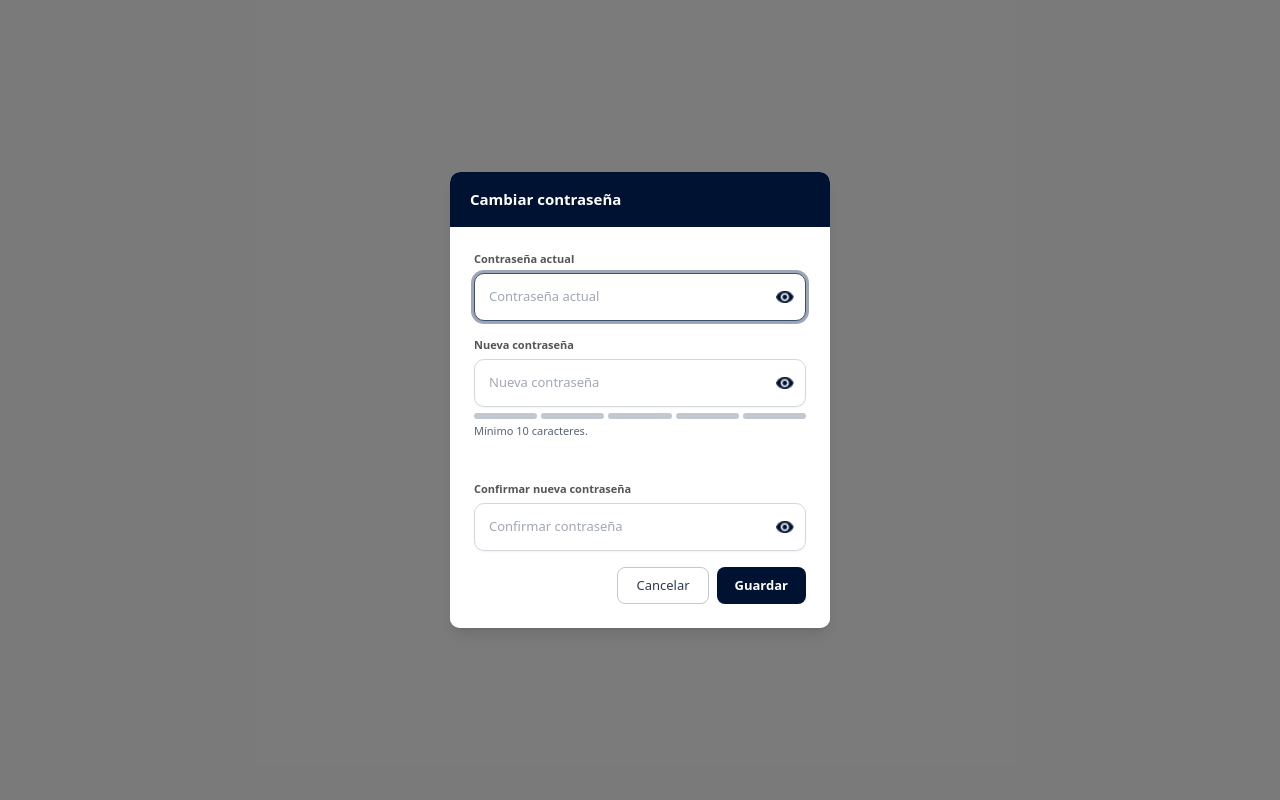
it: CambiarPasswordDialog: guardado › 422: el message del servidor en la línea, los campos se conservan y no hay diálogo genérico
Type "mala1234" into the password field labelled "Contraseña actual" at (640, 297), box x1=474 y1=273 x2=806 y2=320
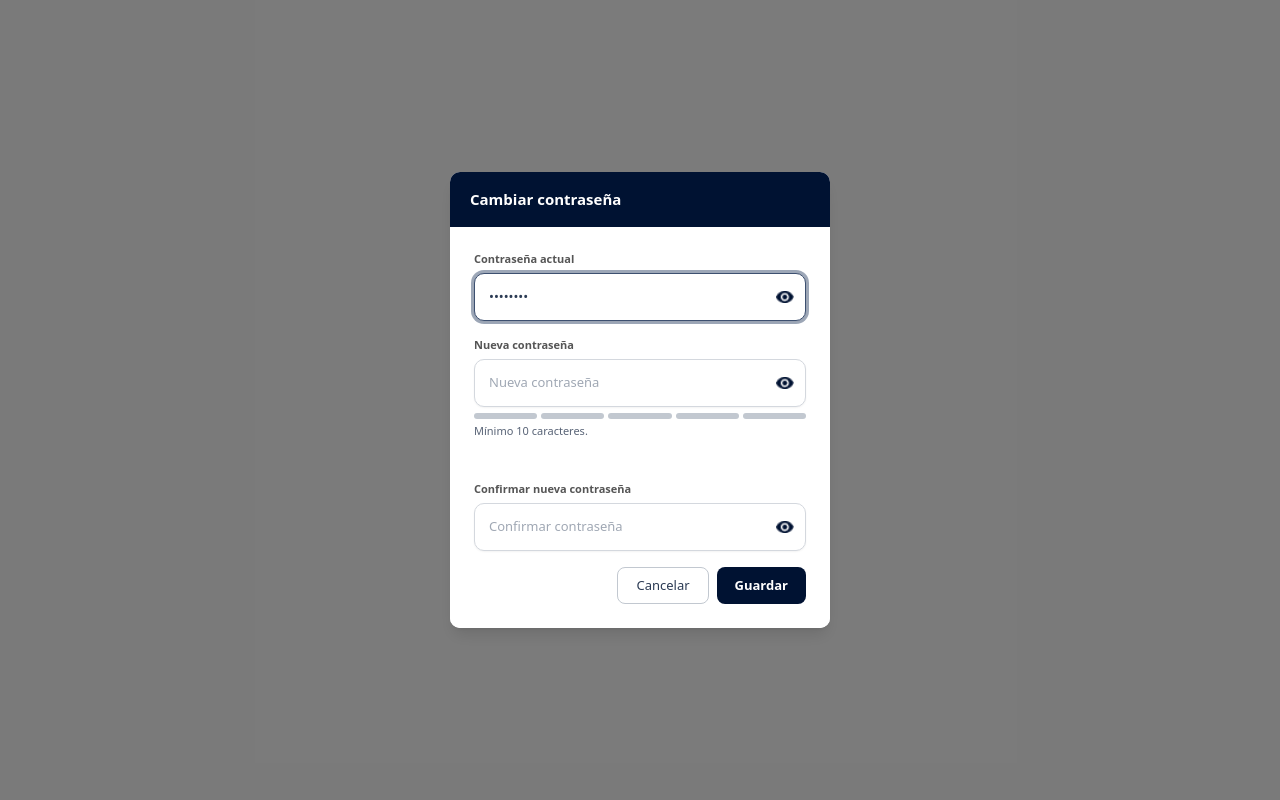
Type "nueva-larga-123" into the password field labelled "Nueva contraseña" at (640, 383), box x1=474 y1=359 x2=806 y2=406
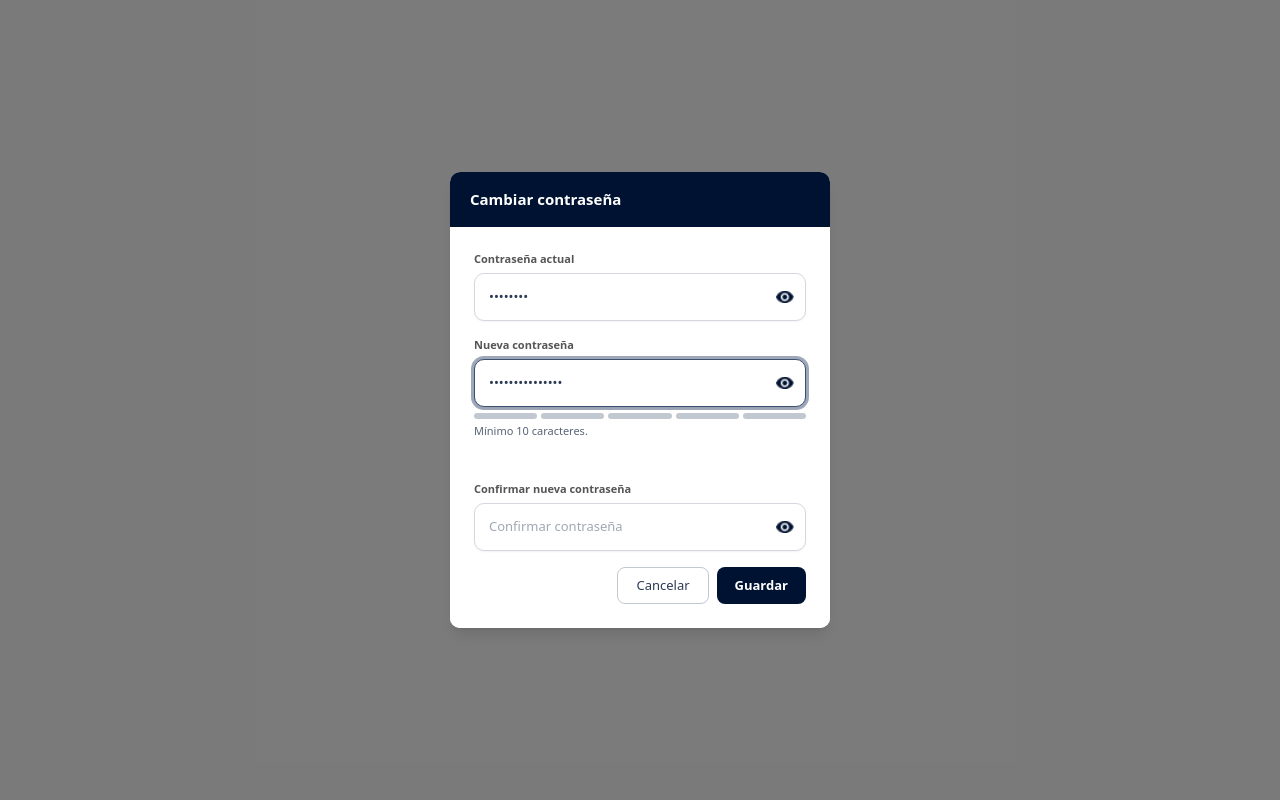
Type "nueva-larga-123" into the password field named "Confirmar nueva contraseña" at (640, 527), box x1=474 y1=503 x2=806 y2=550
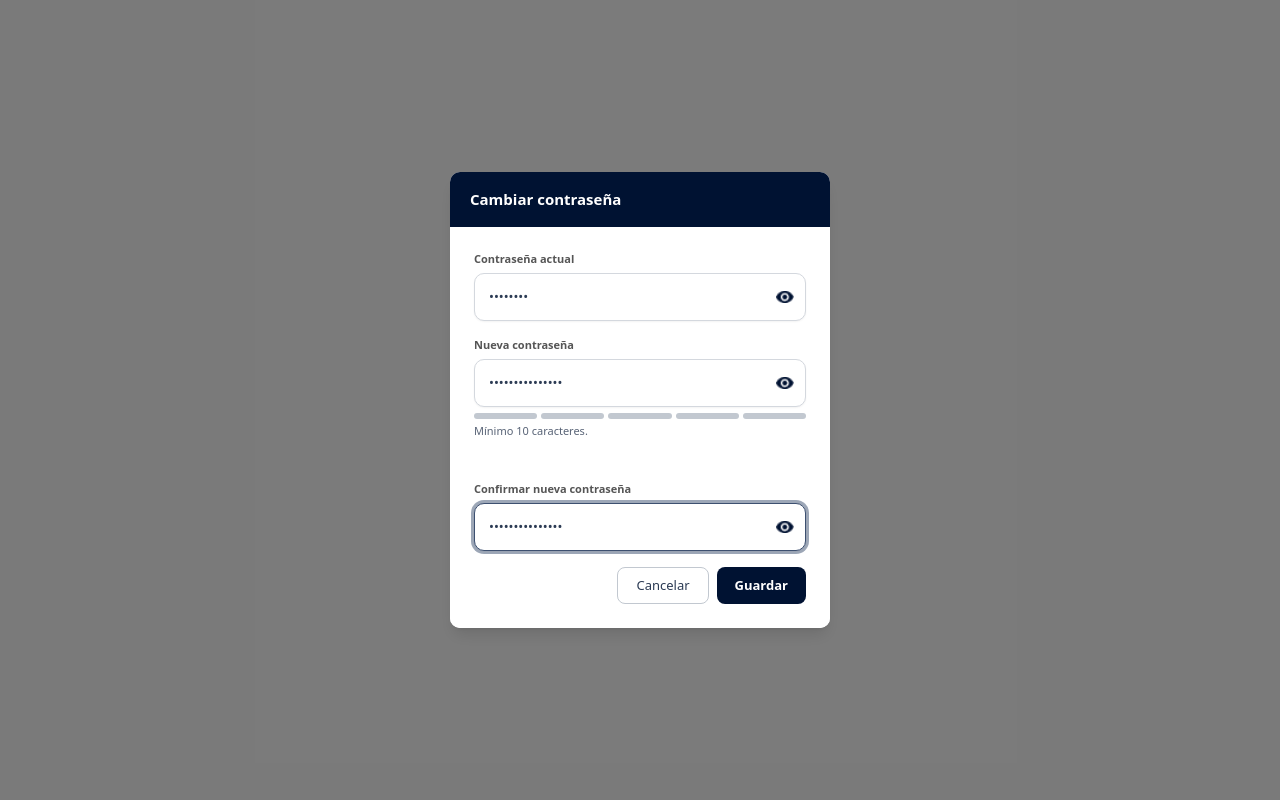
Click the button "Guardar" at (761, 585), box x1=717 y1=566 x2=806 y2=604
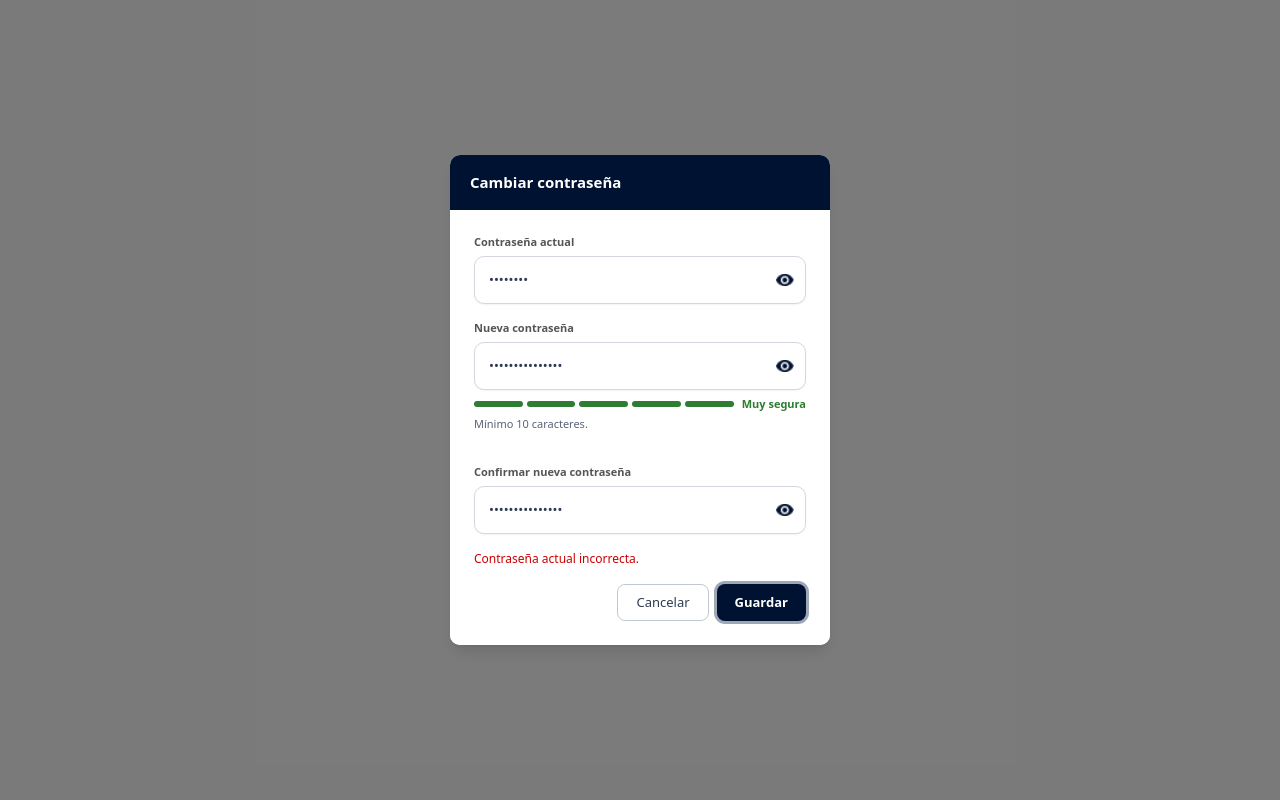
Check: the button "Guardar" is enabled, box x1=717 y1=584 x2=806 y2=621
Check: the message reads "Contraseña actual incorrecta.", box x1=474 y1=550 x2=639 y2=566
